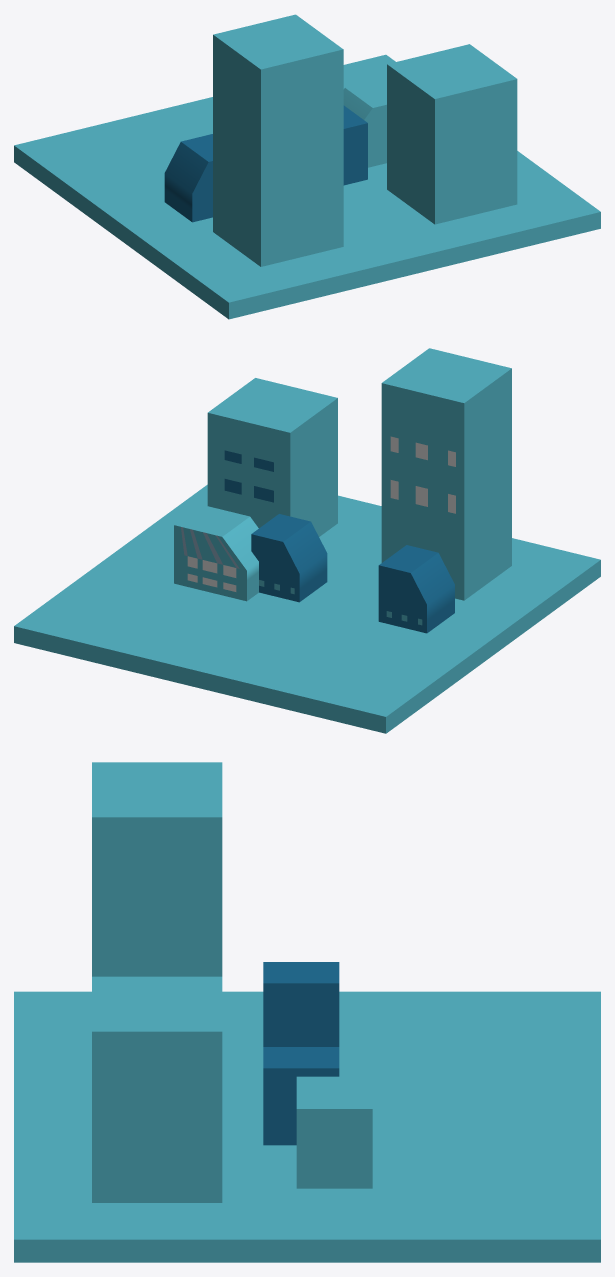
Rendered from factory_building-11.gltf.
3 renders of one model, top to bottom at view 1: azimuth 30°, elevation 25°; view 2: azimuth 150°, elevation 25°; view 3: azimuth 270°, elevation 25°, orthographic. The views are drawn at different scales.
Parts seen in each view (by area): view 1: pCube10, pCube43, pCube42, pCube30, pCube35, pCube49; view 2: pCube10, pCube43, pCube42, pCube35, pCube30, pCube49; view 3: pCube10, pCube42, pCube43, pCube35, pCube30, pCube49.
Part boxes in pixels (x1,y1,x2,y2): pCube10: [14, 54, 600, 319]; pCube43: [213, 14, 343, 266]; pCube42: [387, 44, 517, 224]; pCube30: [164, 134, 212, 222]; pCube35: [343, 77, 386, 167]; pCube49: [343, 105, 367, 185]; pCube10: [14, 484, 600, 733]; pCube43: [381, 348, 511, 600]; pCube42: [207, 378, 337, 536]; pCube35: [174, 505, 258, 601]; pCube30: [378, 545, 454, 633]; pCube49: [251, 514, 327, 602]; pCube10: [14, 991, 600, 1262]; pCube42: [92, 976, 222, 1202]; pCube43: [92, 762, 222, 976]; pCube35: [296, 1076, 372, 1188]; pCube30: [263, 962, 339, 1046]; pCube49: [263, 1047, 339, 1145].
Bounding box in the file's own units: 1.47 × 0.9264 × 1.47.
